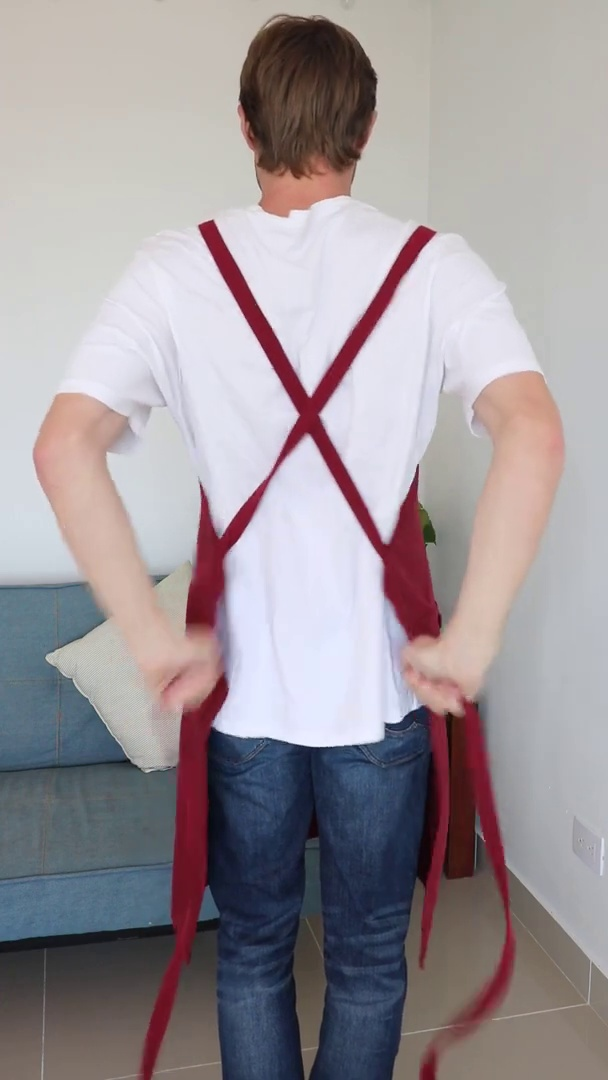Apron: (178, 213, 445, 749)
No_Glove: (408, 630, 494, 724), (143, 625, 220, 717)
No_Hairnet: (240, 17, 383, 190)
